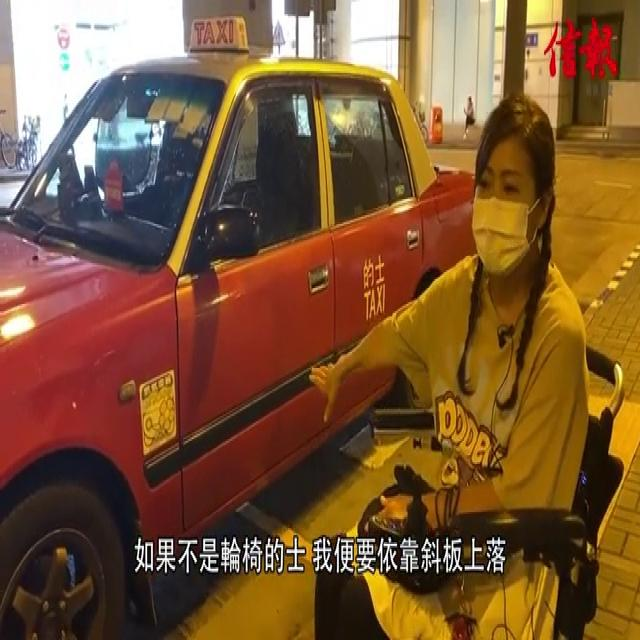wheelchairs: (362, 332, 630, 640)
